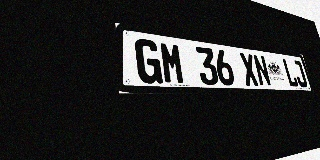3: (195, 46, 219, 85)
6: (213, 49, 236, 86)
G: (134, 38, 163, 84)
J: (291, 60, 308, 87)
L: (282, 58, 299, 87)
M: (159, 41, 186, 84)
N: (252, 54, 272, 86)
X: (239, 52, 259, 86)
